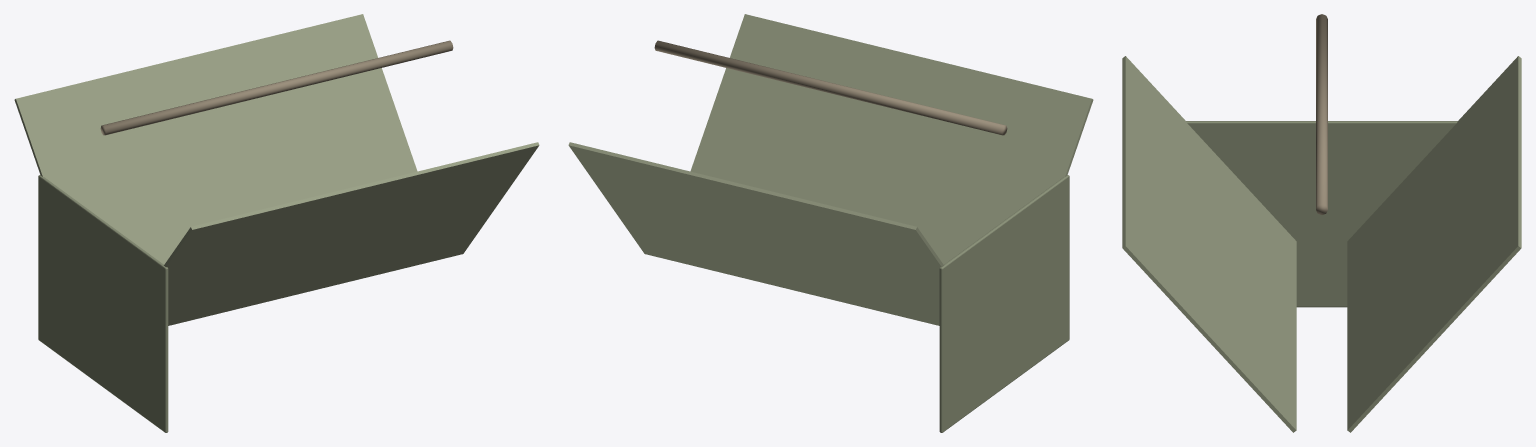
Rendered from field_tent.glb.
The picture shows the model from 3 angles, left to right: view 1: azimuth 30°, elevation 25°; view 2: azimuth 150°, elevation 25°; view 3: azimuth 270°, elevation 25°; orthographic projection. The views are drawn at different scales.
Visible parts, largest first — view 1: tent_side_r, tent_side_l, tent_end_b, tent_ridge; view 2: tent_side_l, tent_side_r, tent_end_b, tent_ridge; view 3: tent_side_l, tent_side_r, tent_end_b, tent_ridge.
Part boxes in pixels (x1=…): tent_side_r: x1=14, y1=14, x2=417, y2=264; tent_side_l: x1=164, y1=142, x2=539, y2=325; tent_end_b: x1=38, y1=175, x2=168, y2=432; tent_ridge: x1=100, y1=40, x2=453, y2=135; tent_side_l: x1=690, y1=14, x2=1093, y2=264; tent_side_r: x1=568, y1=142, x2=943, y2=325; tent_end_b: x1=939, y1=175, x2=1069, y2=432; tent_ridge: x1=654, y1=40, x2=1007, y2=135; tent_side_l: x1=1122, y1=56, x2=1296, y2=432; tent_side_r: x1=1347, y1=56, x2=1521, y2=432; tent_end_b: x1=1186, y1=121, x2=1457, y2=307; tent_ridge: x1=1316, y1=14, x2=1327, y2=214.
Bounding box in the file's own units: 2.21 × 1.58 × 1.95.
